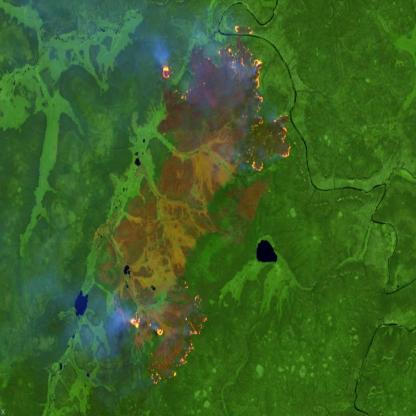fire: (152, 20, 292, 180), (126, 280, 212, 393)
